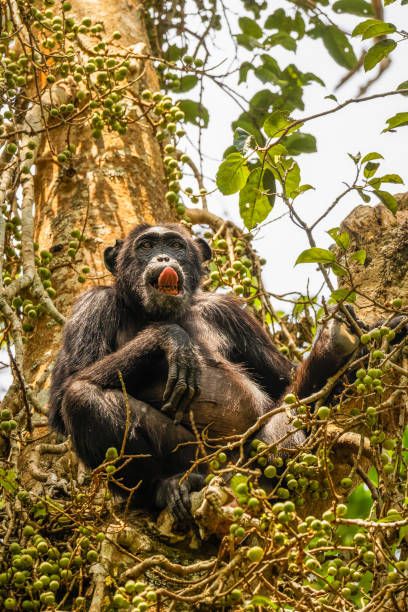chimpanzee: (83, 190, 231, 339)
